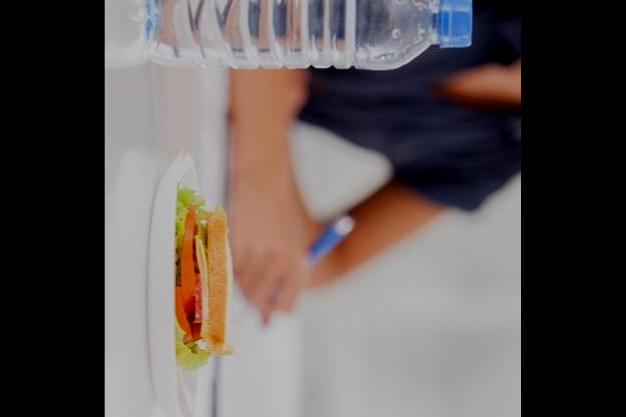bottle: (104, 0, 484, 78)
